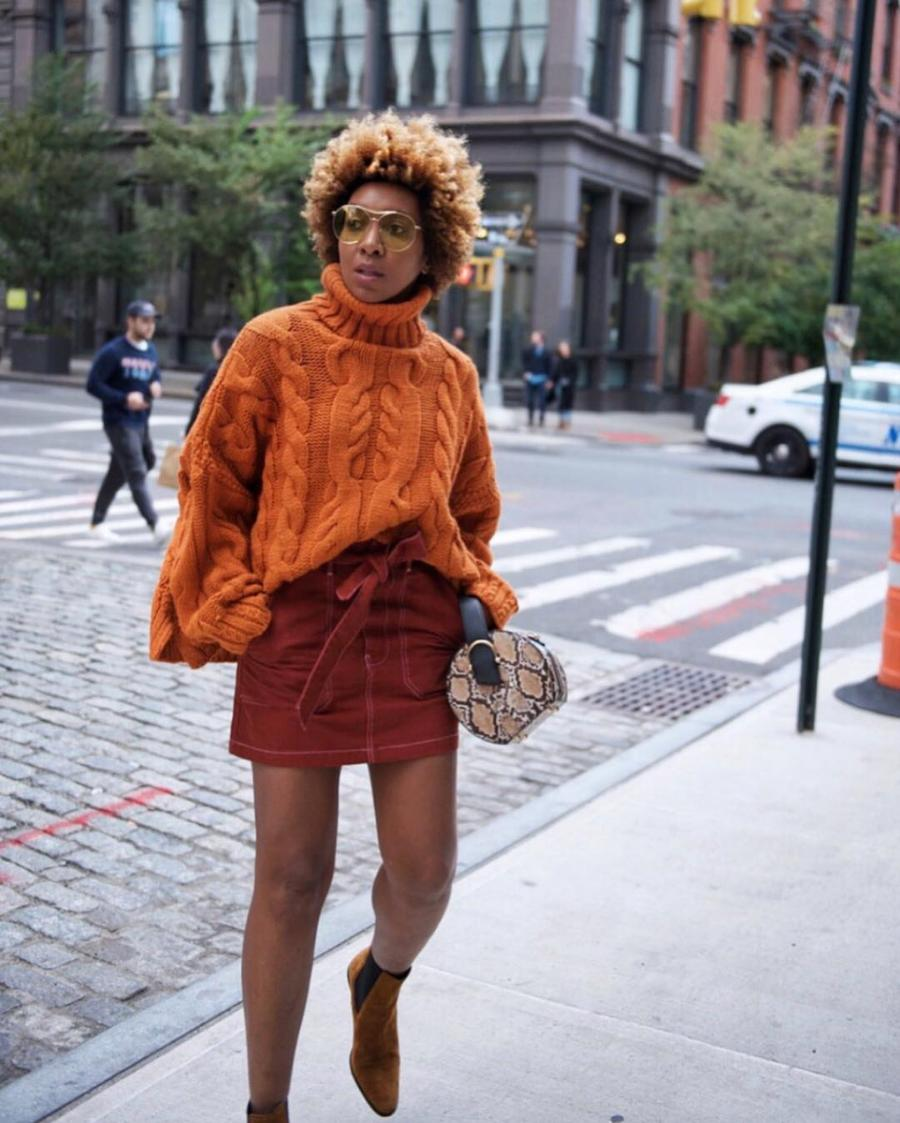skirt: (225, 556, 474, 763)
sweater: (143, 262, 519, 670)
